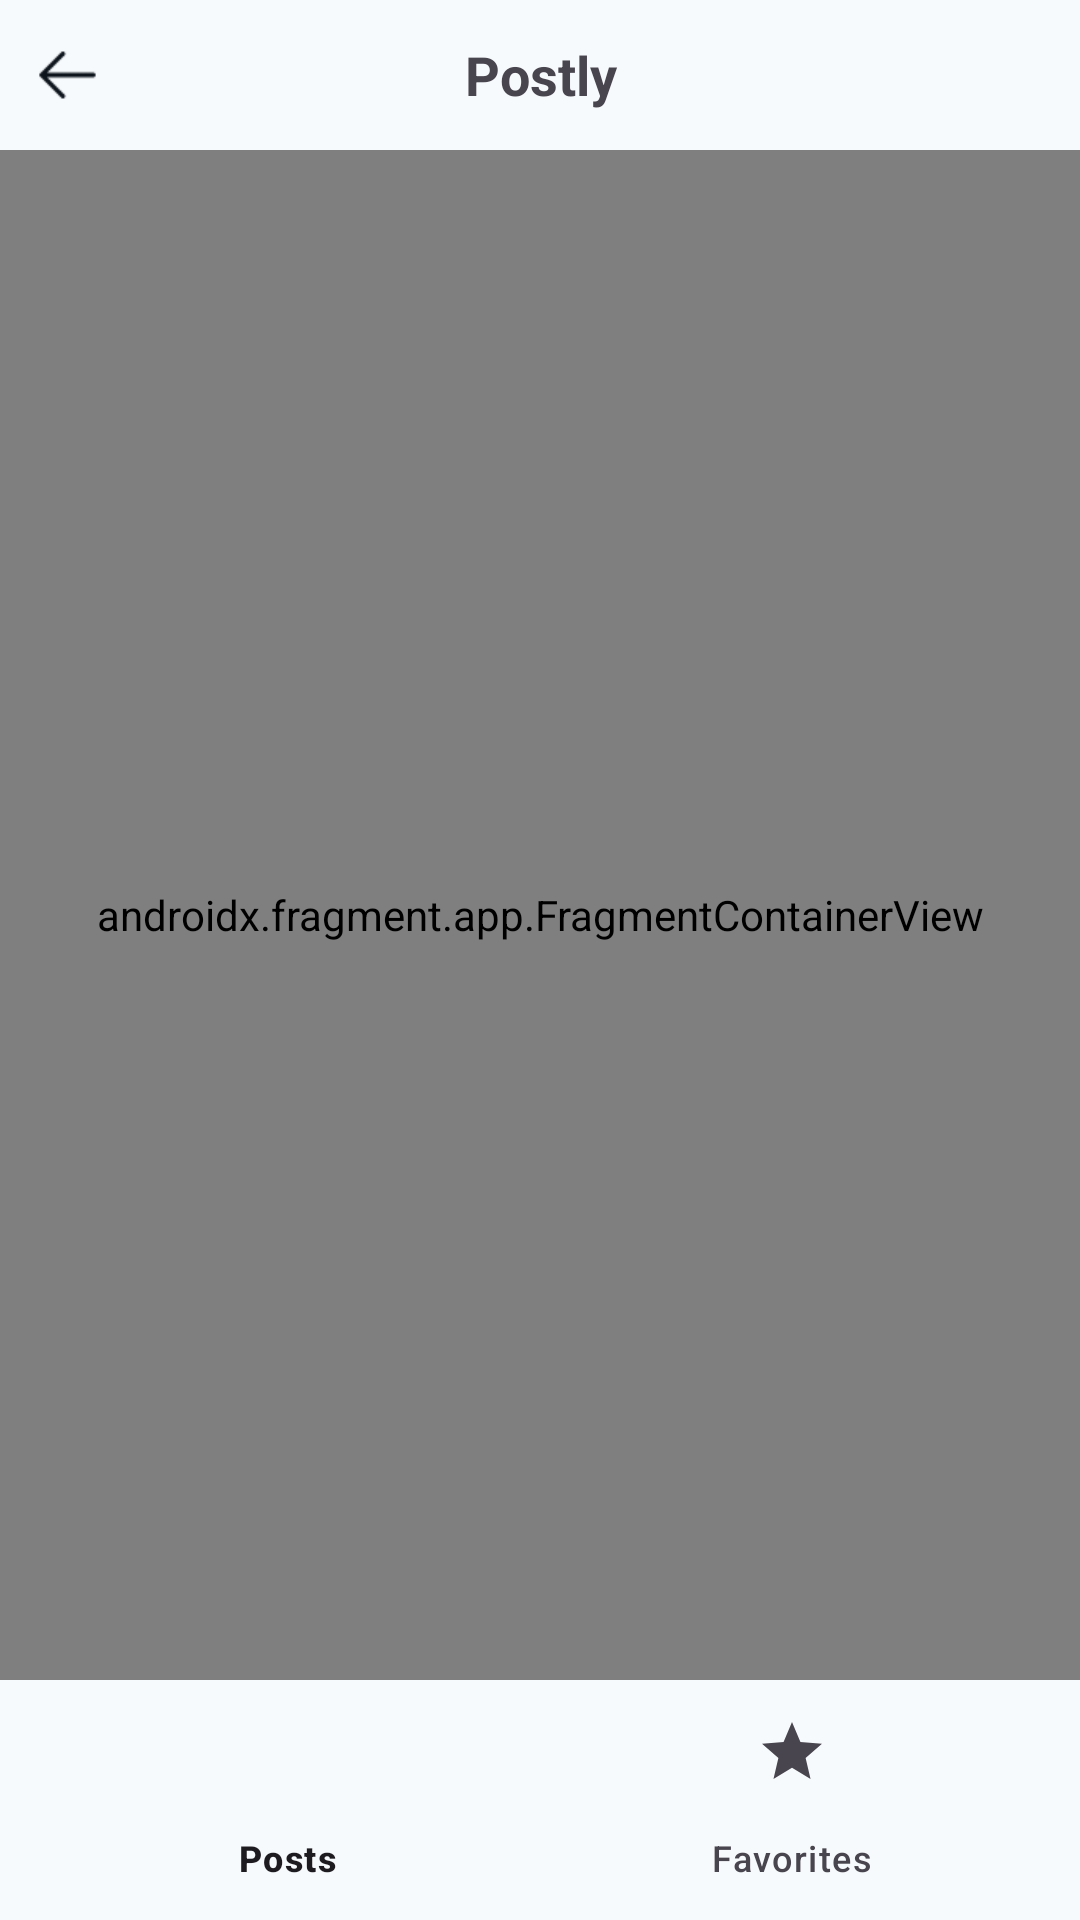

Where to tap for icons on this 1080px x 1920px app screen, as point (x, y):
back: point (67, 75)
